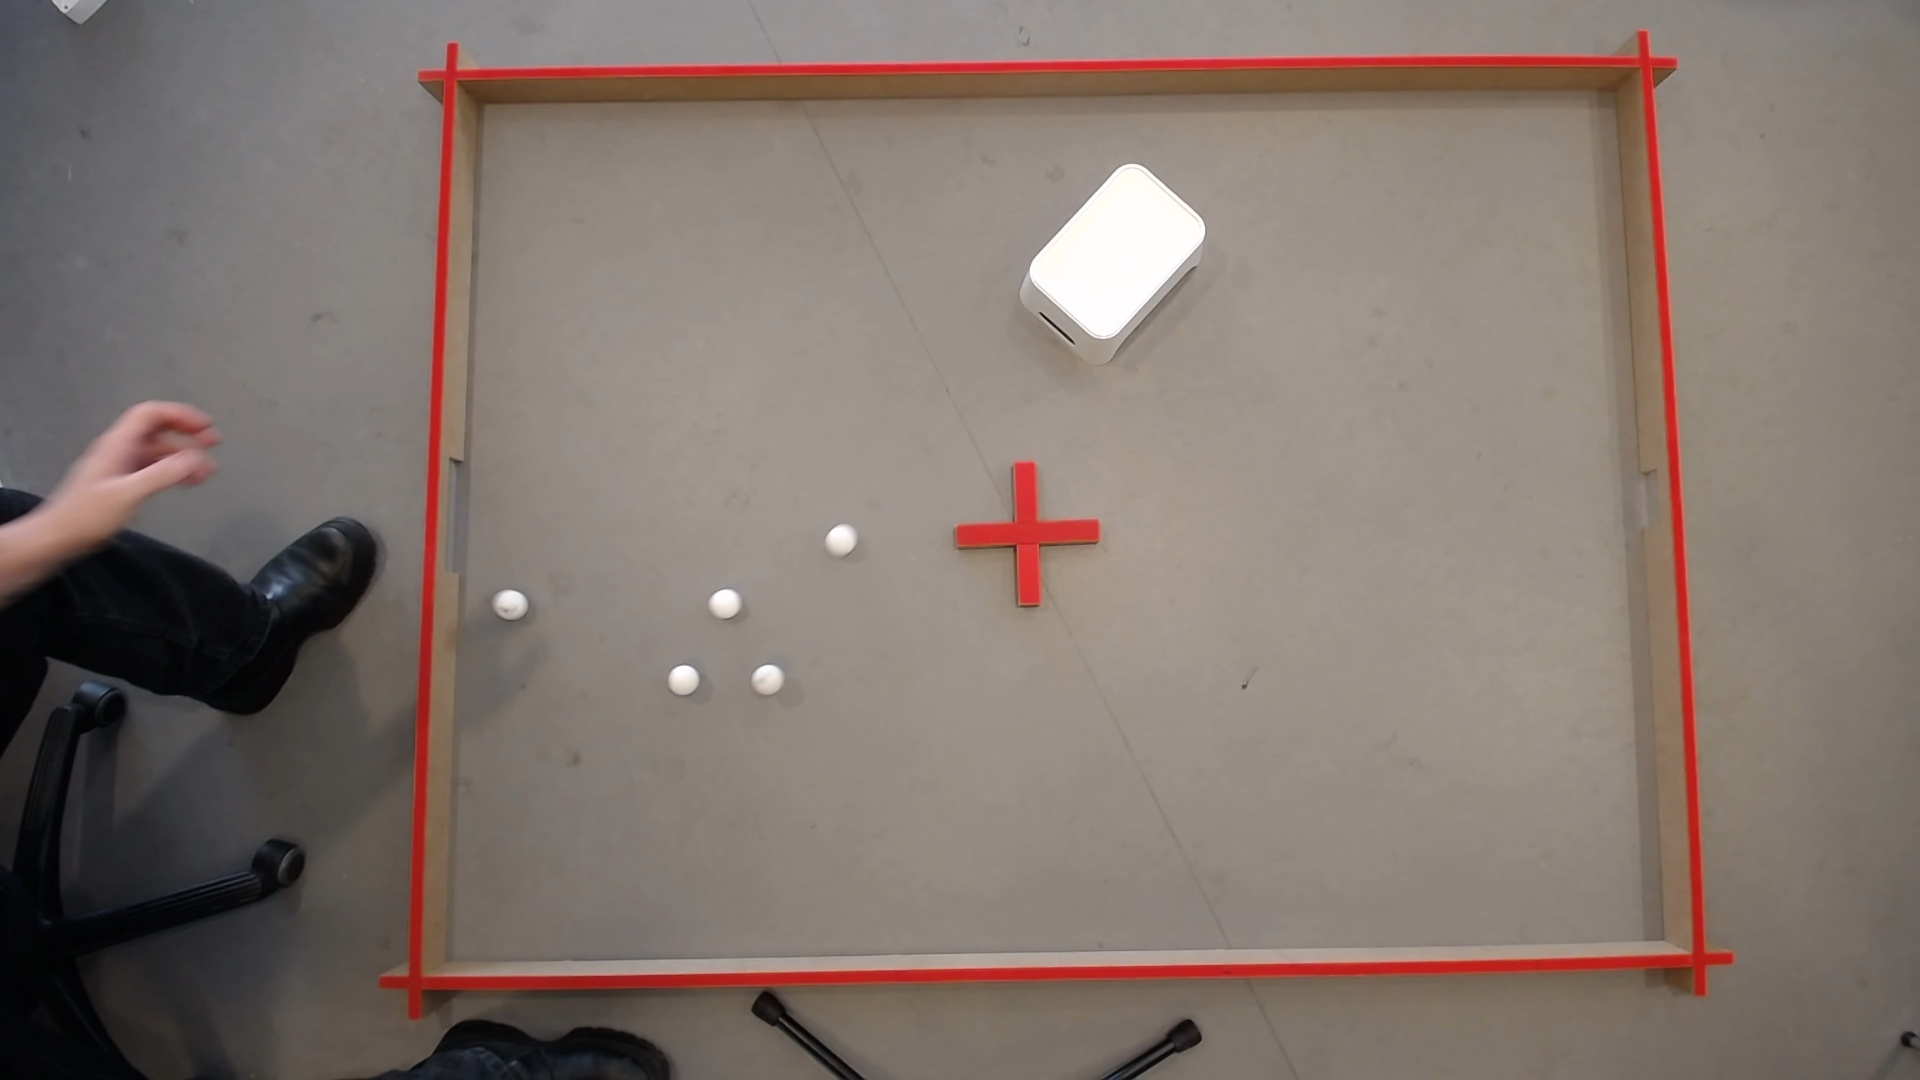balls: (1019, 150, 1215, 348), (823, 520, 858, 554), (666, 661, 699, 691), (709, 588, 737, 612), (497, 589, 524, 609)
car: (752, 658, 782, 688)
